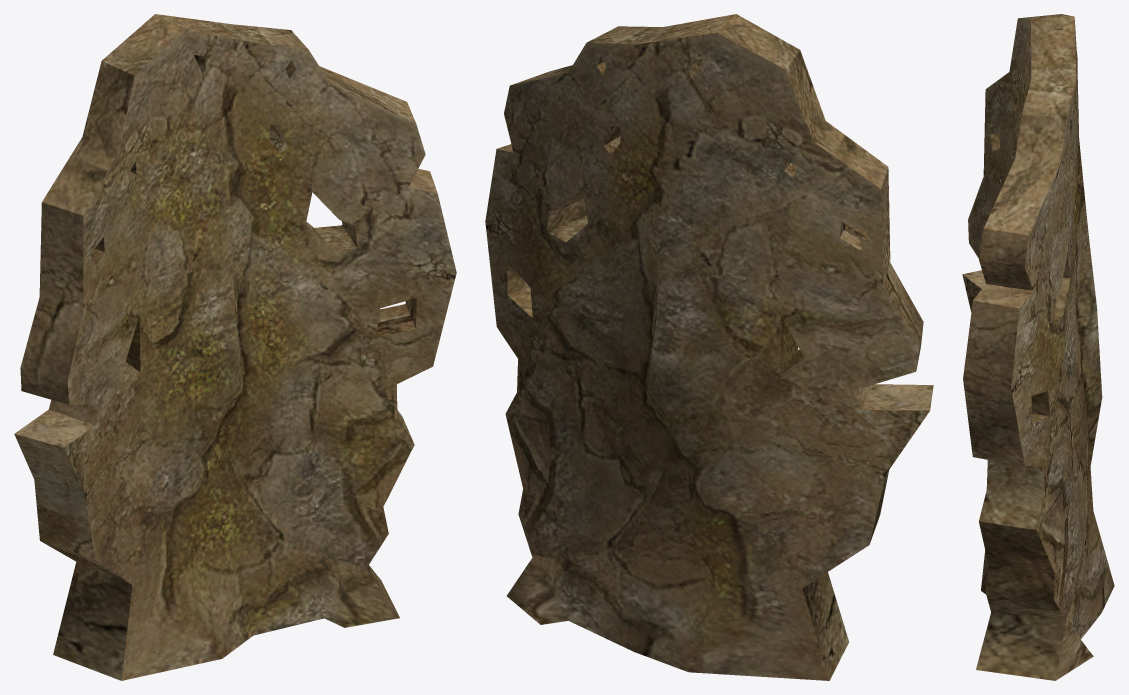
Rendered from double_02.fbx.
The picture shows the model from 3 angles, left to right: view 1: azimuth 30°, elevation 25°; view 2: azimuth 150°, elevation 25°; view 3: azimuth 270°, elevation 25°; orthographic projection. The views are drawn at different scales.
Parts seen in each view (by area): view 1: objdouble_02; view 2: objdouble_02; view 3: objdouble_02.
Boxes of the visible parts, left/top/right/bottom form: objdouble_02: left=14, top=14, right=456, bottom=680; objdouble_02: left=485, top=14, right=933, bottom=680; objdouble_02: left=962, top=14, right=1114, bottom=680.
Size of the model in its own units: 3.67 by 4.93 by 1.2.
